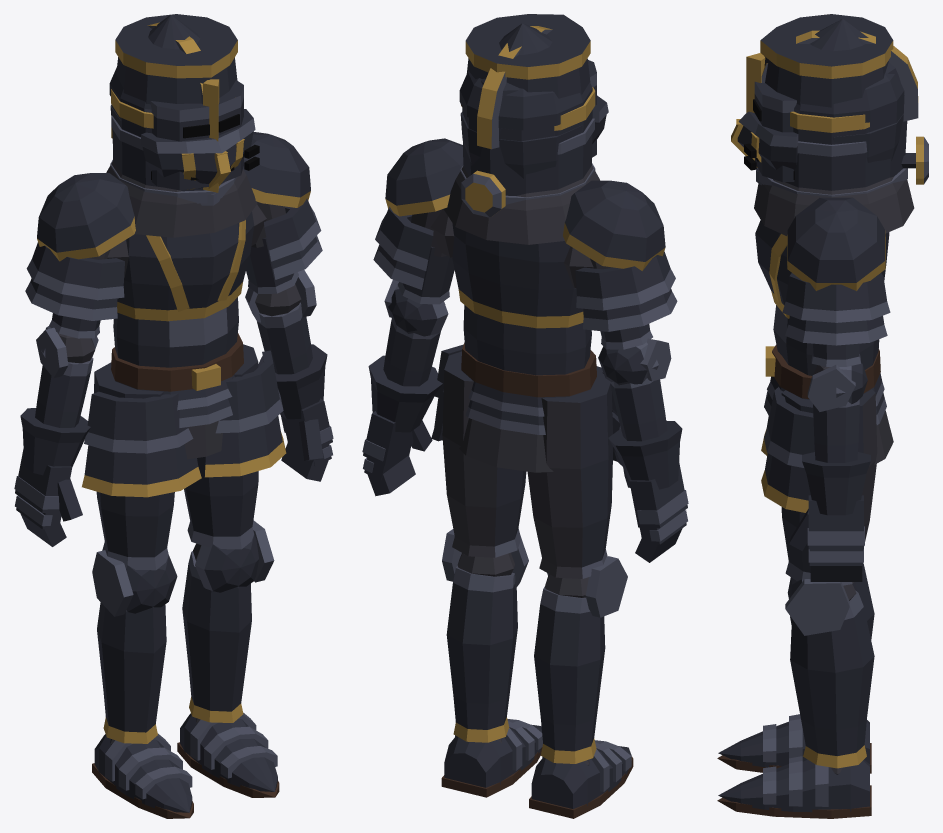
Rendered from knight-first.glb.
3 renders of one model, left to right at view 1: azimuth 30°, elevation 25°; view 2: azimuth 150°, elevation 25°; view 3: azimuth 270°, elevation 25°, orthographic. The views are drawn at different scales.
Parts seen in each view (by area): view 1: K_Helm_Bascinet_Mesh, K_Shoulder_R_Mesh, K_Shin_L_Mesh, K_Shin_R_Mesh, K_Chest_Mesh, K_Helm_Great_Mesh, K_Tasset_R_Mesh, K_Shoulder_L_Mesh, K_Hips_Mesh, K_Tasset_L_Mesh, K_Foot_L_Mesh, K_Foot_R_Mesh (+12 smaller); view 2: K_Thigh_R_Mesh, K_Shoulder_R_Mesh, K_Shin_R_Mesh, K_Shin_L_Mesh, K_Chest_Mesh, K_Helm_Armet_Mesh, K_Helm_Bascinet_Mesh, K_Hips_Mesh, K_Thigh_L_Mesh, K_Helm_Great_Mesh, K_Shoulder_L_Mesh, K_Spine_Mesh (+11 smaller); view 3: K_Shoulder_L_Mesh, K_Shin_L_Mesh, K_Helm_Bascinet_Mesh, K_Helm_Great_Mesh, K_Helm_Armet_Mesh, K_Foot_L_Mesh, K_Hand_L_Mesh, K_Tasset_L_Mesh, K_Thigh_L_Mesh, K_Foot_R_Mesh, K_UpperArm_L_Mesh, K_Hips_Mesh (+5 smaller).
Part boxes in pixels (x1=…): K_Helm_Bascinet_Mesh: x1=106, y1=14, x2=257, y2=237; K_Shoulder_R_Mesh: x1=25, y1=173, x2=135, y2=320; K_Shin_L_Mesh: x1=182, y1=520, x2=274, y2=722; K_Shin_R_Mesh: x1=92, y1=550, x2=177, y2=743; K_Chest_Mesh: x1=107, y1=204, x2=266, y2=321; K_Helm_Great_Mesh: x1=111, y1=14, x2=237, y2=205; K_Tasset_R_Mesh: x1=82, y1=391, x2=201, y2=497; K_Shoulder_L_Mesh: x1=243, y1=131, x2=322, y2=279; K_Hips_Mesh: x1=111, y1=333, x2=243, y2=459; K_Tasset_L_Mesh: x1=205, y1=350, x2=286, y2=477; K_Foot_L_Mesh: x1=177, y1=712, x2=279, y2=797; K_Foot_R_Mesh: x1=92, y1=733, x2=193, y2=818; K_Thigh_R_Mesh: x1=527, y1=368, x2=613, y2=578; K_Shoulder_R_Mesh: x1=563, y1=180, x2=677, y2=331; K_Shin_R_Mesh: x1=534, y1=556, x2=627, y2=763; K_Shin_L_Mesh: x1=442, y1=529, x2=528, y2=742; K_Chest_Mesh: x1=430, y1=209, x2=593, y2=328; K_Helm_Armet_Mesh: x1=459, y1=26, x2=608, y2=217; K_Helm_Bascinet_Mesh: x1=443, y1=23, x2=599, y2=244; K_Hips_Mesh: x1=459, y1=342, x2=596, y2=472; K_Thigh_L_Mesh: x1=442, y1=351, x2=526, y2=557; K_Helm_Great_Mesh: x1=461, y1=14, x2=595, y2=154; K_Shoulder_L_Mesh: x1=373, y1=138, x2=463, y2=289; K_Spine_Mesh: x1=463, y1=305, x2=591, y2=375; K_Shoulder_L_Mesh: x1=782, y1=197, x2=890, y2=345; K_Shin_L_Mesh: x1=785, y1=577, x2=874, y2=768; K_Helm_Bascinet_Mesh: x1=753, y1=18, x2=914, y2=235; K_Helm_Great_Mesh: x1=746, y1=14, x2=893, y2=185; K_Helm_Armet_Mesh: x1=731, y1=30, x2=928, y2=184; K_Foot_L_Mesh: x1=717, y1=756, x2=871, y2=818; K_Hand_L_Mesh: x1=789, y1=452, x2=870, y2=550; K_Tasset_L_Mesh: x1=761, y1=387, x2=814, y2=512; K_Thigh_L_Mesh: x1=781, y1=389, x2=877, y2=585; K_Foot_R_Mesh: x1=717, y1=714, x2=871, y2=773; K_UpperArm_L_Mesh: x1=807, y1=343, x2=867, y2=411; K_Hips_Mesh: x1=764, y1=345, x2=893, y2=464.
Bounding box in the file's own units: 0.7209 × 1.77 × 0.4437.
